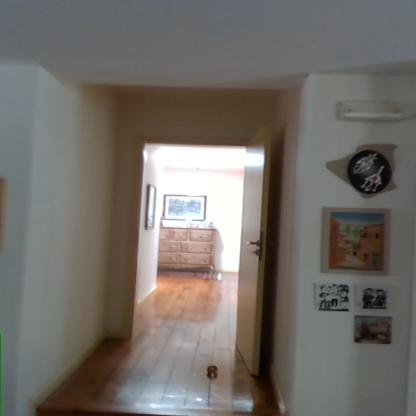open: (118, 124, 297, 407)
